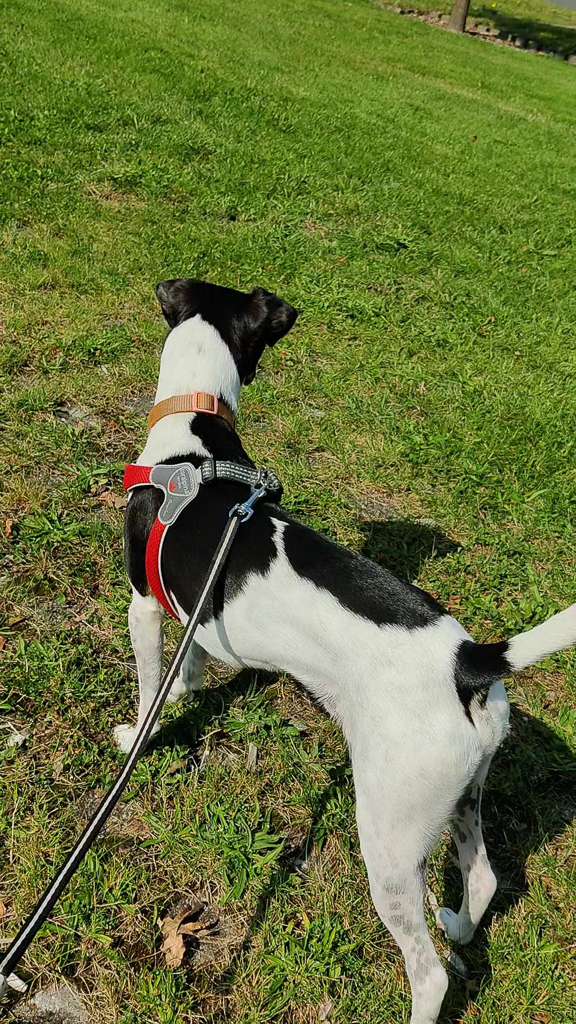Dog: (105, 271, 576, 1024)
